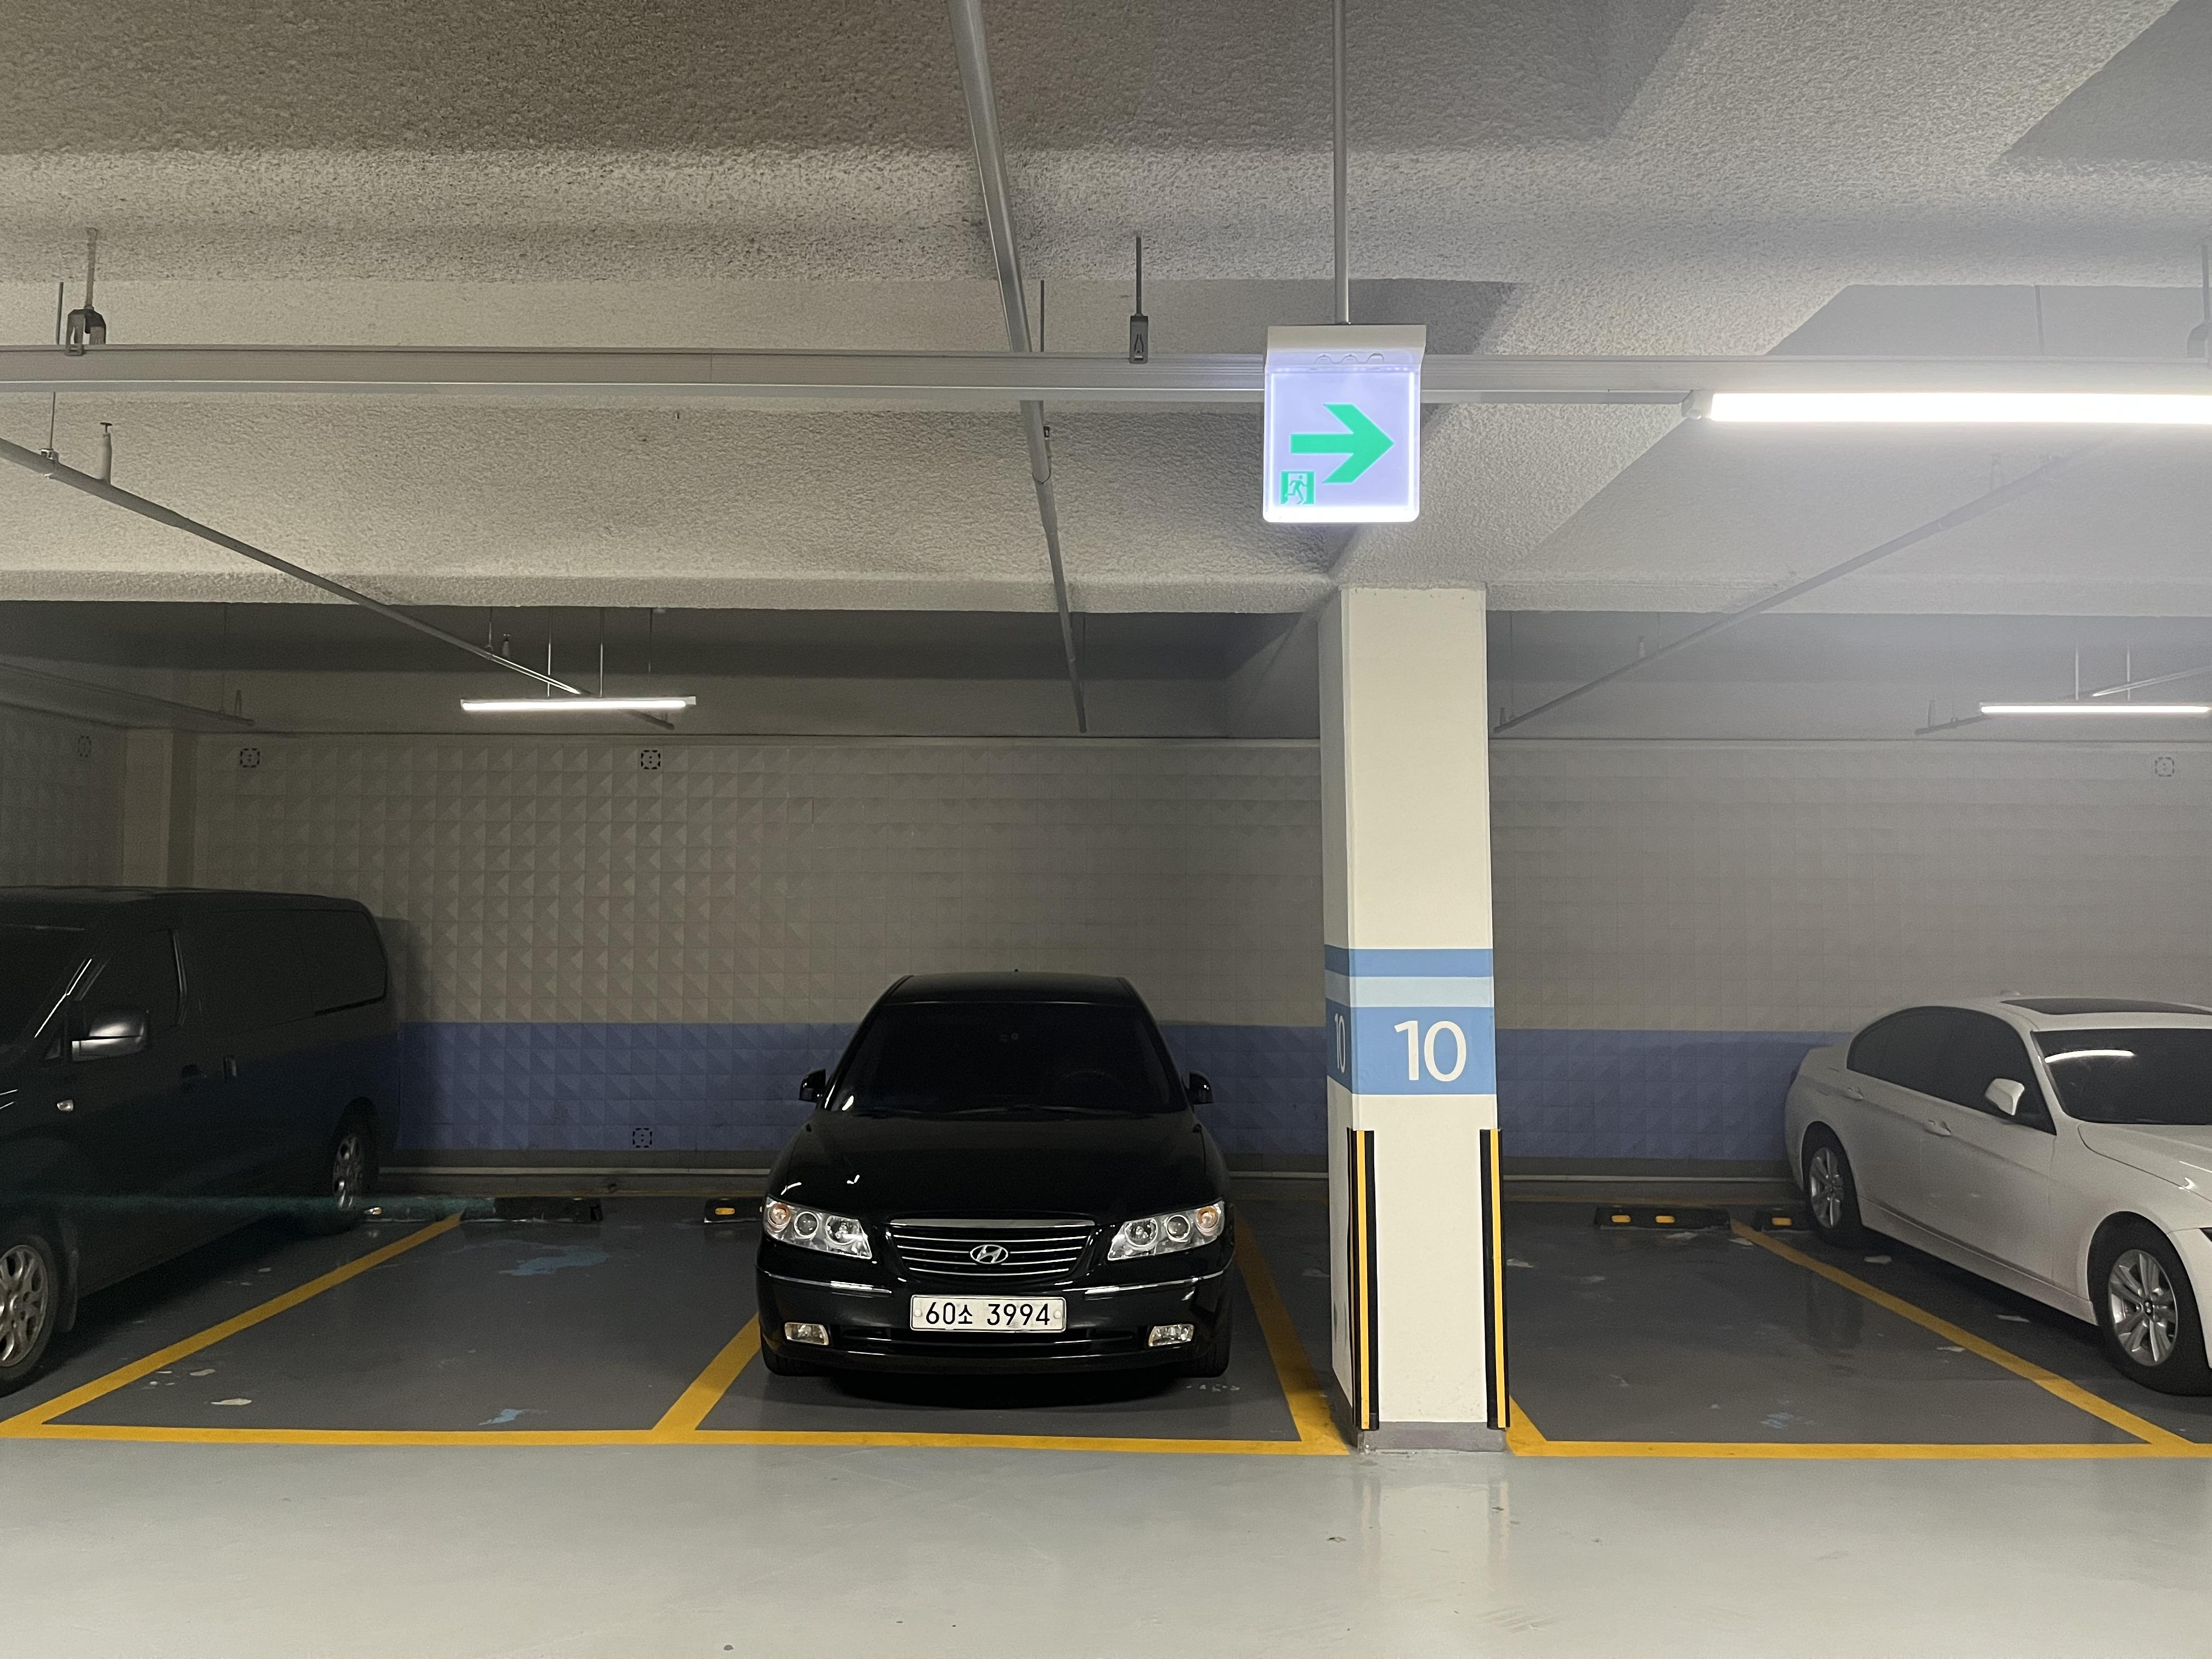empty: (0, 1178, 836, 1457), (1496, 1175, 2212, 1459)
occupied: (766, 966, 1263, 1415)
